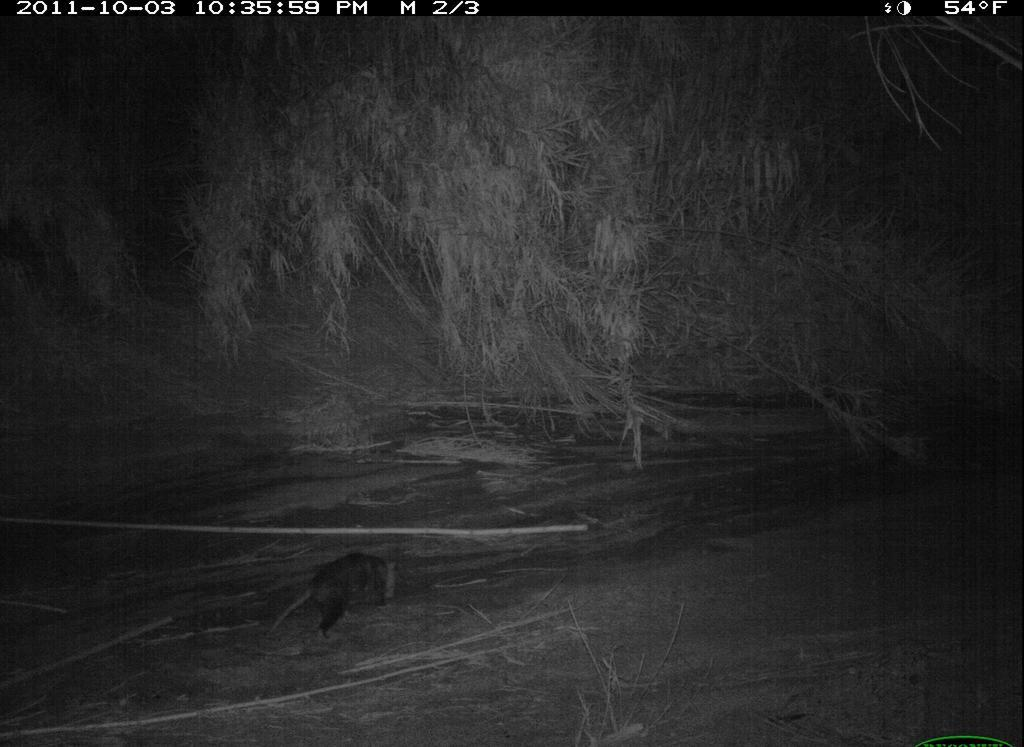opossum: (259, 542, 401, 652)
